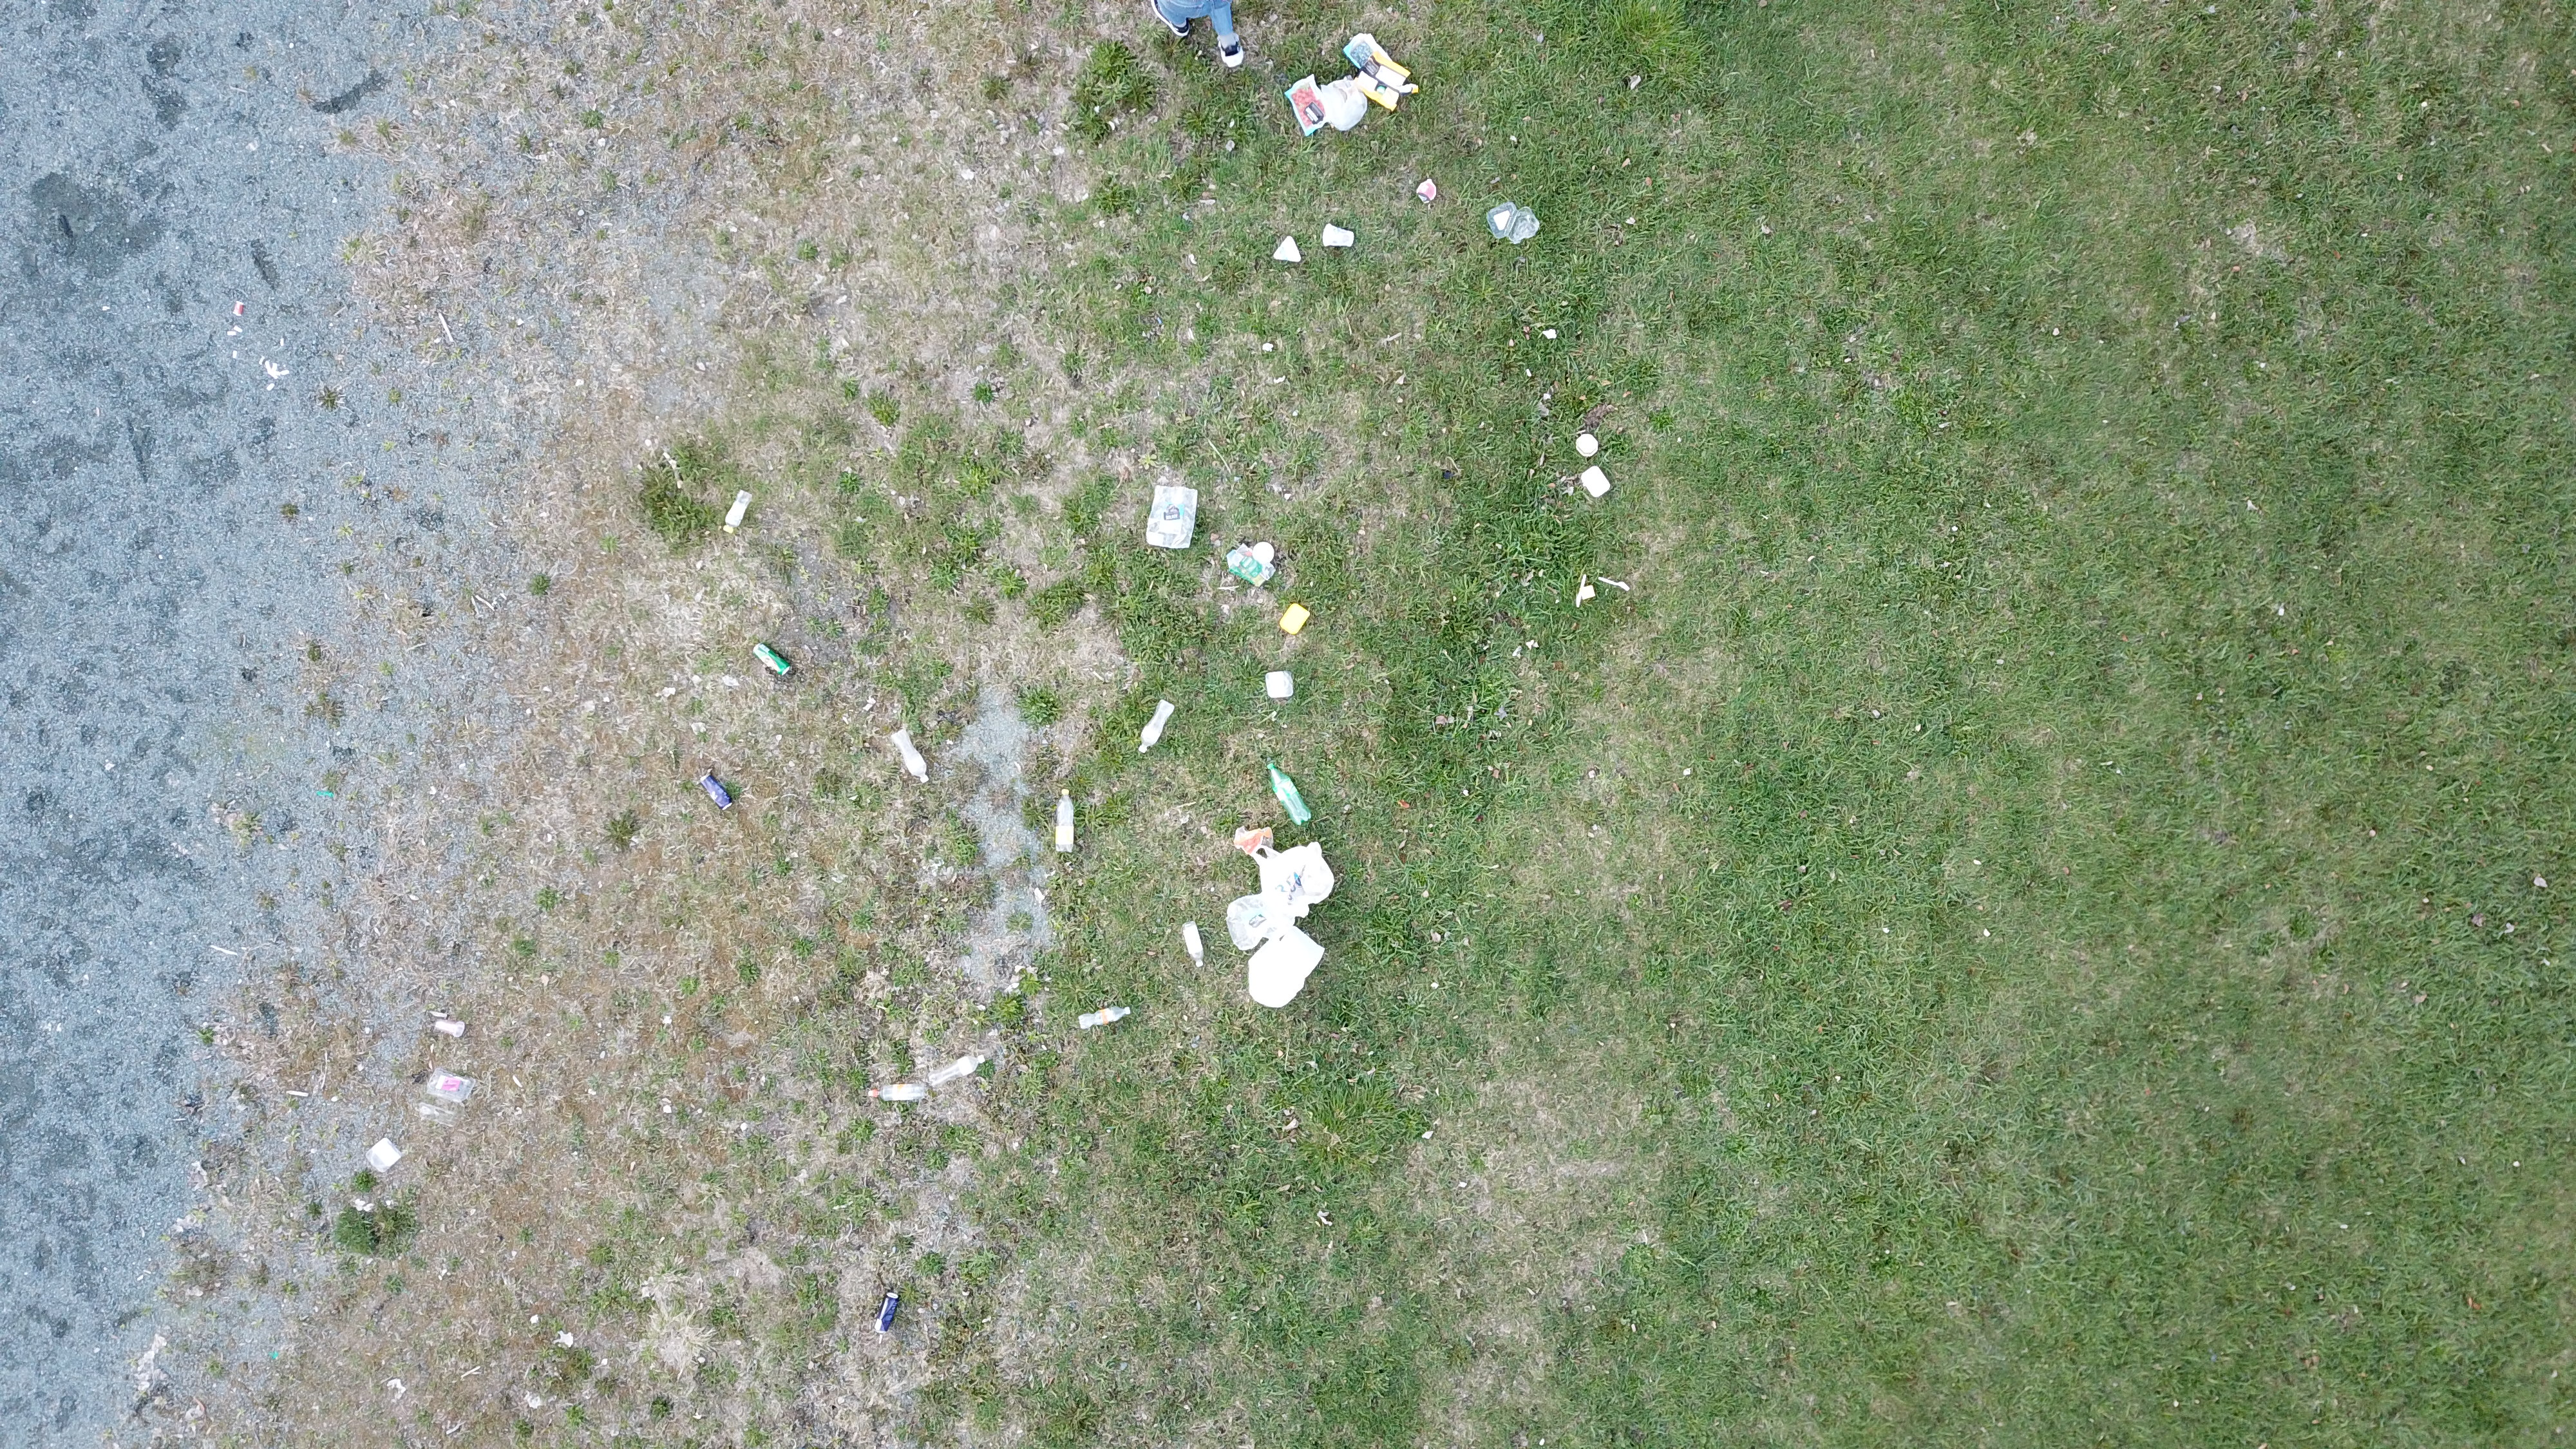Can: (699, 771, 734, 812), (750, 644, 793, 678), (874, 1293, 901, 1334)
Plastic: (1247, 925, 1325, 1010), (1265, 840, 1334, 918), (1350, 55, 1422, 110), (1226, 893, 1290, 952), (1146, 485, 1200, 550), (419, 1067, 474, 1125), (1316, 73, 1369, 133), (1283, 73, 1329, 136), (1345, 30, 1399, 74), (1486, 202, 1541, 242), (1226, 543, 1276, 587), (1233, 826, 1276, 858), (366, 1138, 405, 1171), (1279, 602, 1311, 633), (1272, 234, 1304, 264), (1582, 467, 1612, 499), (1322, 225, 1355, 249), (432, 1014, 467, 1037), (1265, 672, 1295, 699), (1415, 179, 1438, 205), (1576, 433, 1599, 458), (1598, 577, 1631, 593), (1576, 575, 1587, 607), (1580, 584, 1596, 602), (232, 301, 244, 320), (267, 1350, 280, 1361)
PlasticBottle: (1269, 763, 1313, 826), (895, 729, 931, 786), (1139, 699, 1175, 754), (929, 1054, 987, 1085), (1076, 1007, 1131, 1031), (725, 488, 754, 536), (863, 1083, 925, 1104), (1056, 789, 1076, 855), (1180, 922, 1205, 970)
